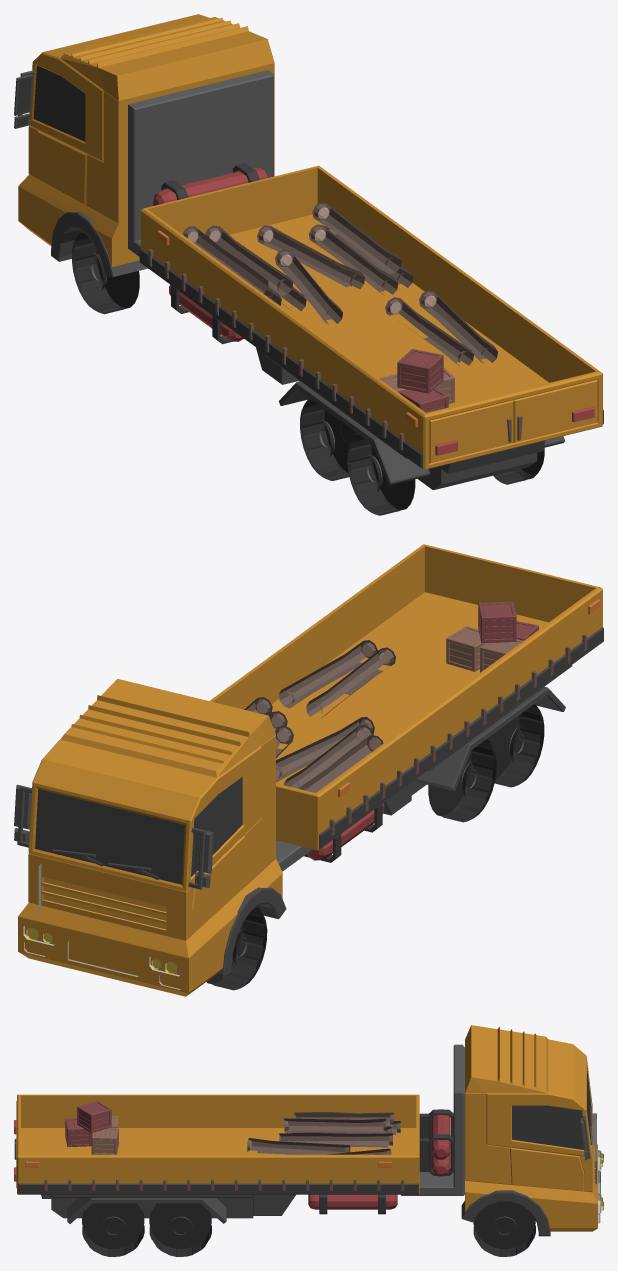
The model's file is lp-truck-yellow.glb.
3 renders of one model, top to bottom at view 1: azimuth 30°, elevation 25°; view 2: azimuth 150°, elevation 25°; view 3: azimuth 270°, elevation 25°, orthographic. The views are drawn at different scales.
Visible parts, largest first — view 1: lp-truck-yellow; view 2: lp-truck-yellow; view 3: lp-truck-yellow.
Part boxes in pixels (x1,y1,x2,y2): lp-truck-yellow: (14, 14, 603, 515); lp-truck-yellow: (14, 544, 603, 996); lp-truck-yellow: (14, 1025, 603, 1256).
Size of the model in its own units: 2.71 by 3.36 by 10.
Materials: 1 (1 with a texture image).
